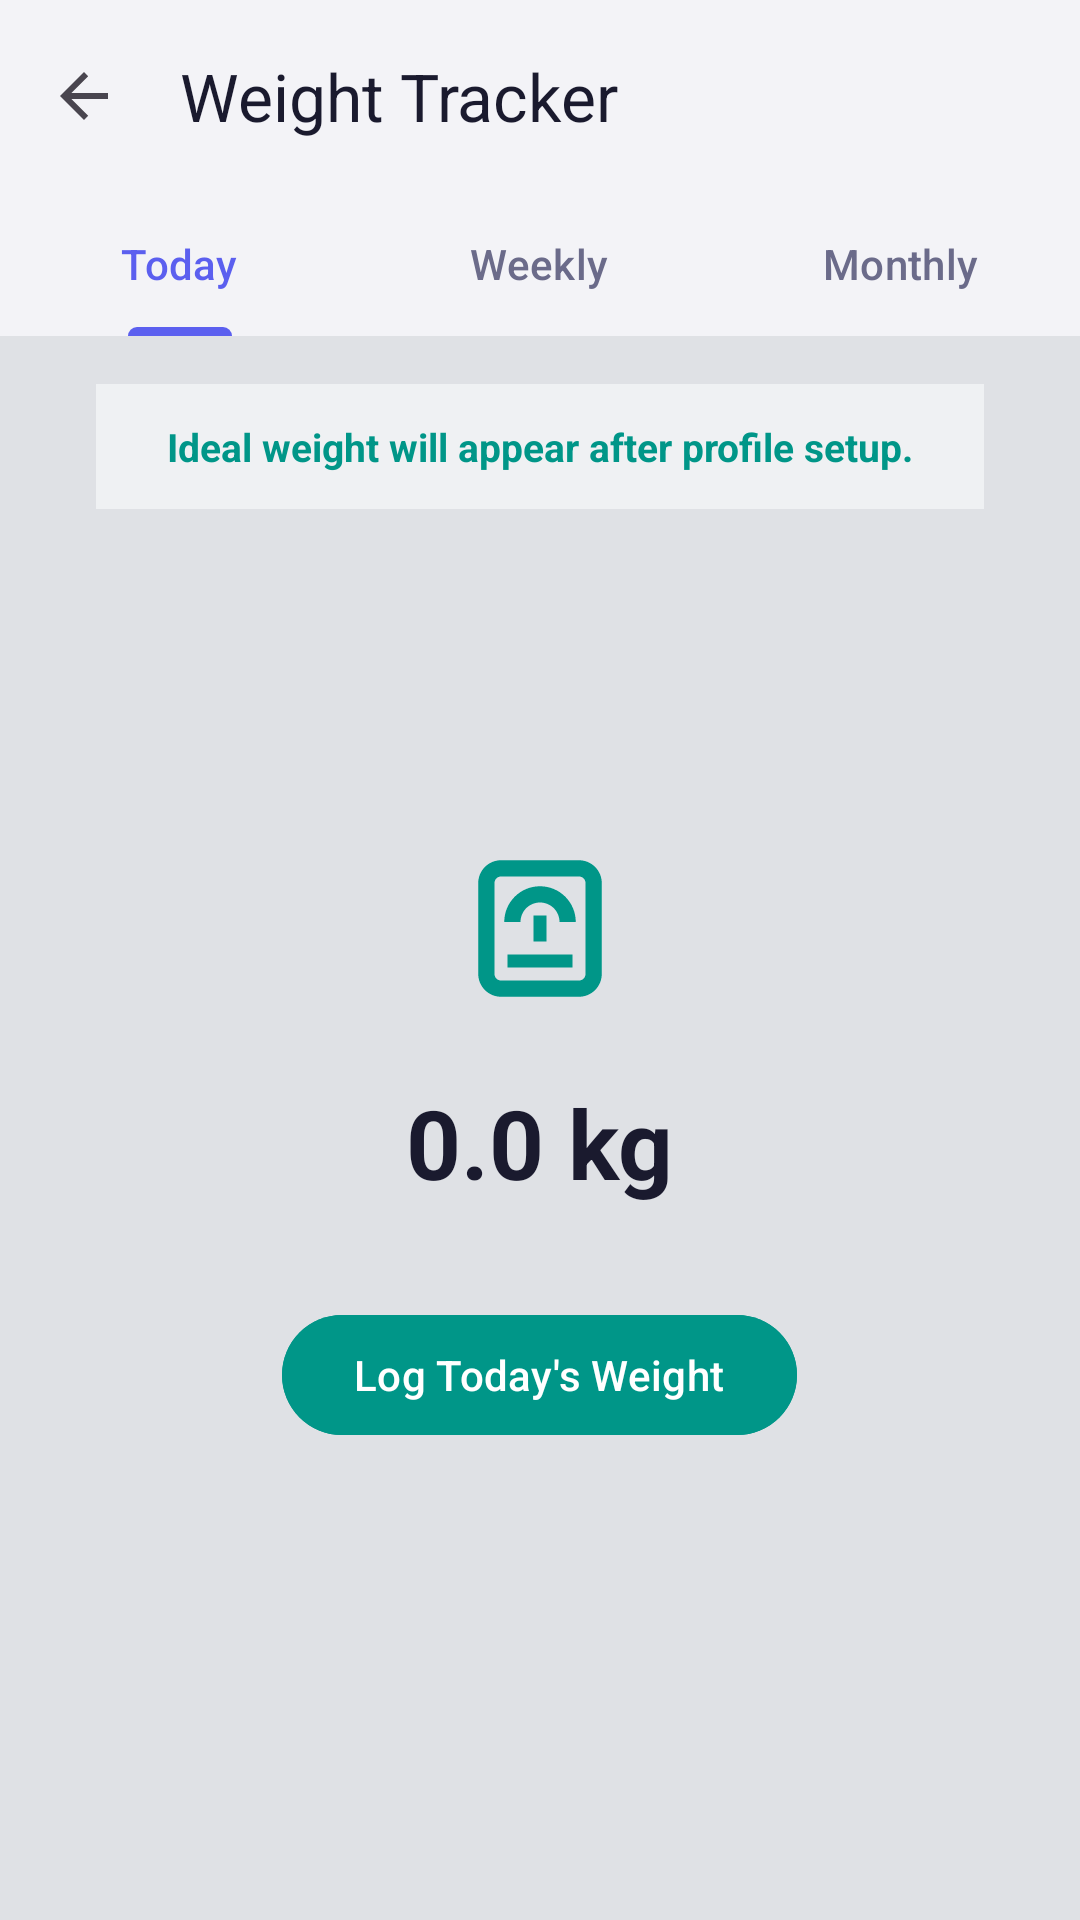

Where icons sit on this 1080w x 1920h app screen, as (x1, y1, x2, y2):
Weight: (478, 860, 602, 997)
